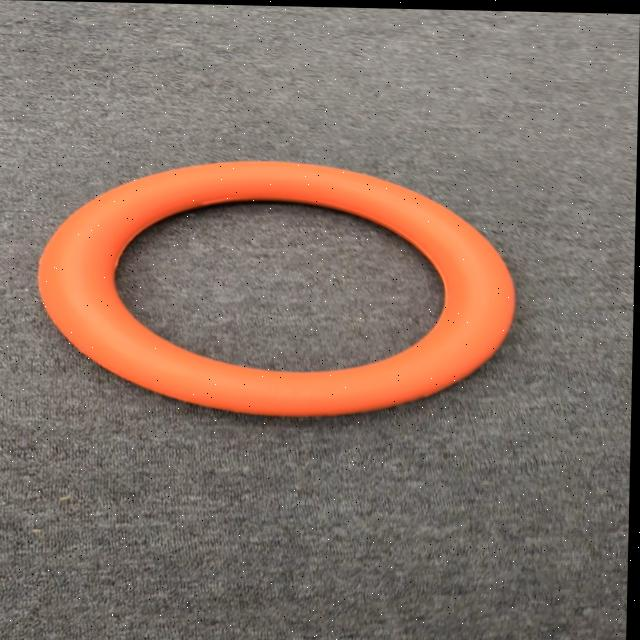note: (34, 160, 511, 416)
